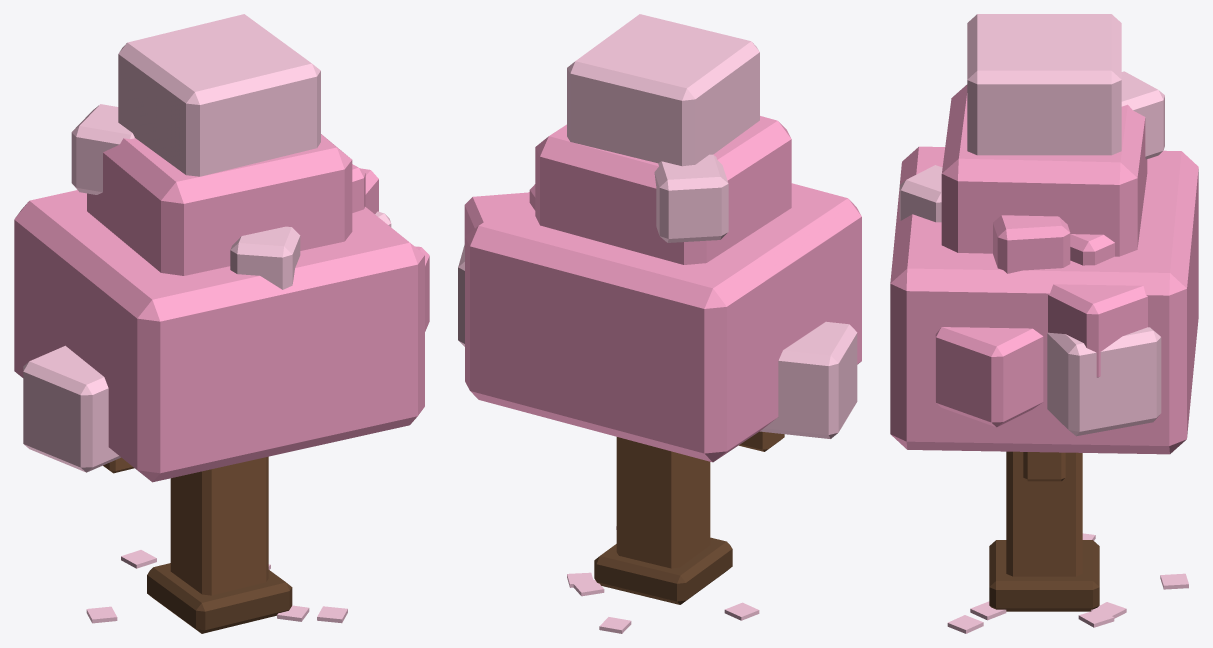
File: CherryTreeSmall.fbx
3 renders of one model, left to right at view 1: azimuth 30°, elevation 25°; view 2: azimuth 150°, elevation 25°; view 3: azimuth 270°, elevation 25°, orthographic. The views are drawn at different scales.
Visible parts, largest first — view 1: CherryTreeSmall_Blossom, CherryTreeSmall_BlossomLight, CherryTreeSmall_Bark, CherryTreeSmall_BarkDark; view 2: CherryTreeSmall_Blossom, CherryTreeSmall_BlossomLight, CherryTreeSmall_Bark, CherryTreeSmall_BarkDark; view 3: CherryTreeSmall_Blossom, CherryTreeSmall_BlossomLight, CherryTreeSmall_Bark, CherryTreeSmall_BarkDark.
Part boxes in pixels (x1,y1,x2,y2): CherryTreeSmall_Blossom: (14, 134, 429, 482); CherryTreeSmall_BlossomLight: (23, 14, 391, 623); CherryTreeSmall_Bark: (103, 456, 268, 595); CherryTreeSmall_BarkDark: (147, 563, 292, 633); CherryTreeSmall_Blossom: (464, 116, 861, 462); CherryTreeSmall_BlossomLight: (458, 14, 857, 633); CherryTreeSmall_Bark: (616, 431, 784, 568); CherryTreeSmall_BarkDark: (594, 537, 732, 604); CherryTreeSmall_Blossom: (890, 84, 1198, 454); CherryTreeSmall_BlossomLight: (899, 14, 1188, 633); CherryTreeSmall_Bark: (1006, 451, 1082, 576); CherryTreeSmall_BarkDark: (989, 540, 1099, 611).
Size of the model in its own units: 510 by 713 by 363.
